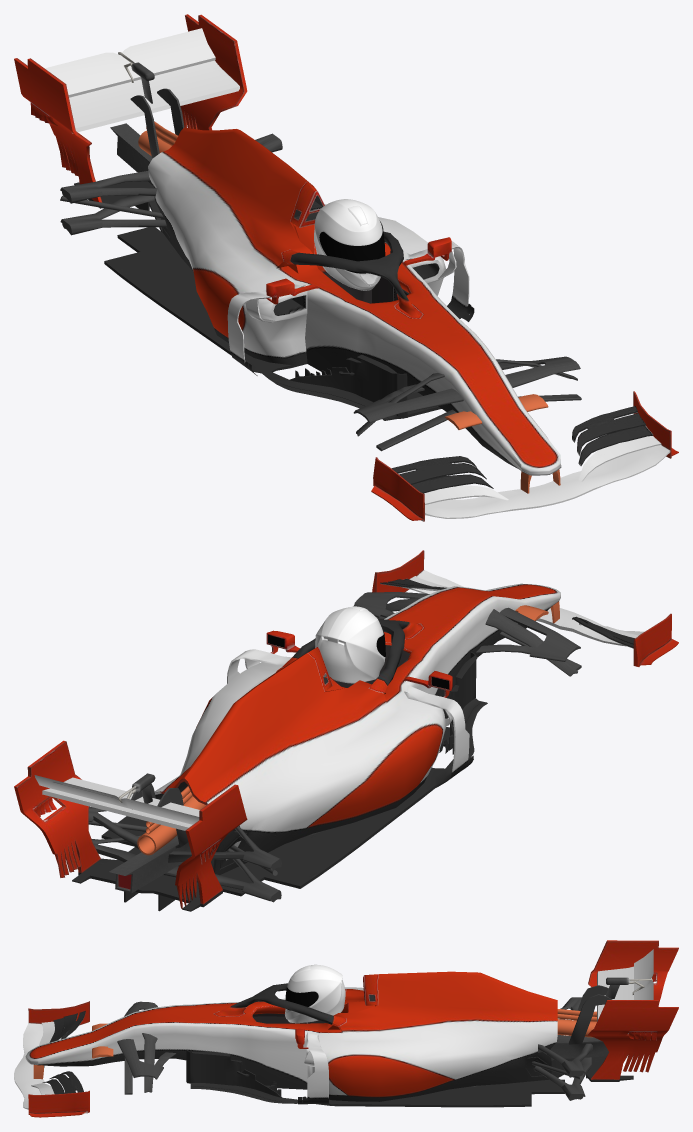
Rendered from Car_No_Wheels_.glb.
3 views of the same model, one above another, from view 1: azimuth 30°, elevation 25°; view 2: azimuth 150°, elevation 25°; view 3: azimuth 270°, elevation 25° (orthographic). The views are drawn at different scales.
Visible parts, largest first — view 1: Body_-Body_, Susp_, Helmet-Hel_Plastic_, Helmet-Hel_Glass, Flaps_; view 2: Body_-Body_, Susp_, Helmet-Hel_Plastic_, Eject_; view 3: Body_-Body_, Susp_, Helmet-Hel_Plastic_, Eject_, Flaps_, Helmet-Hel_Glass.
Boxes of the visible parts, left/top/right/bottom form: Body_-Body_: left=14, top=14, right=678, bottom=521; Susp_: left=60, top=52, right=581, bottom=451; Helmet-Hel_Plastic_: left=314, top=199, right=382, bottom=290; Helmet-Hel_Glass: left=319, top=221, right=385, bottom=273; Flaps_: left=444, top=394, right=560, bottom=493; Body_-Body_: left=14, top=550, right=678, bottom=911; Susp_: left=88, top=592, right=581, bottom=902; Helmet-Hel_Plastic_: left=315, top=606, right=385, bottom=683; Eject_: left=137, top=786, right=206, bottom=855; Body_-Body_: left=14, top=940, right=678, bottom=1117; Susp_: left=117, top=977, right=652, bottom=1100; Helmet-Hel_Plastic_: left=285, top=964, right=345, bottom=1023; Eject_: left=557, top=1009, right=596, bottom=1037; Flaps_: left=33, top=1023, right=113, bottom=1079; Helmet-Hel_Glass: left=285, top=986, right=318, bottom=1010.
Size of the model in its own units: 196 by 101 by 554.
6 materials, 2 textured.
